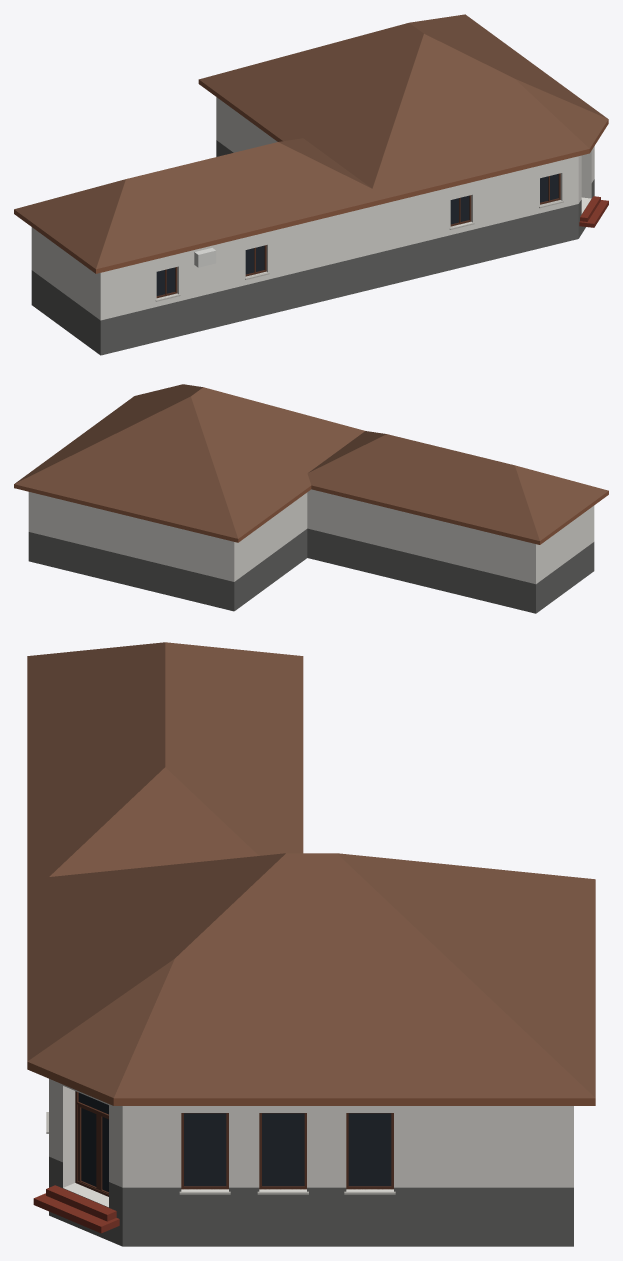
The model's file is shop-kolodvorska.glb.
3 views of the same model, one above another, from view 1: azimuth 30°, elevation 25°; view 2: azimuth 150°, elevation 25°; view 3: azimuth 270°, elevation 25° (orthographic). The views are drawn at different scales.
Visible parts, largest first — view 1: Shop Kolodvorska; view 2: Shop Kolodvorska; view 3: Shop Kolodvorska.
Boxes of the visible parts, <box> form: Shop Kolodvorska: <box>14,14,608,355</box>; Shop Kolodvorska: <box>14,384,608,613</box>; Shop Kolodvorska: <box>27,642,595,1246</box>.
Bounding box in the file's own units: 24.11 × 7.46 × 13.1.
